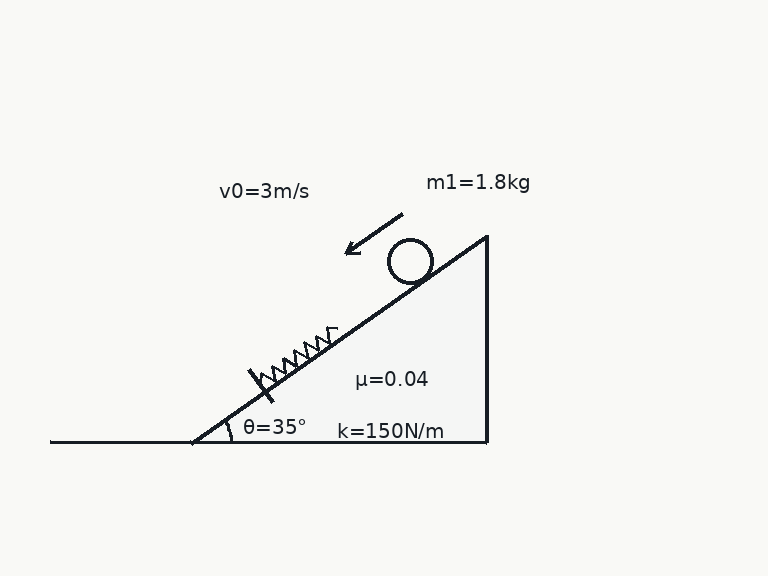ball: (385, 236, 435, 286)
ramp: (189, 234, 488, 444)
spring: (258, 325, 338, 385)
